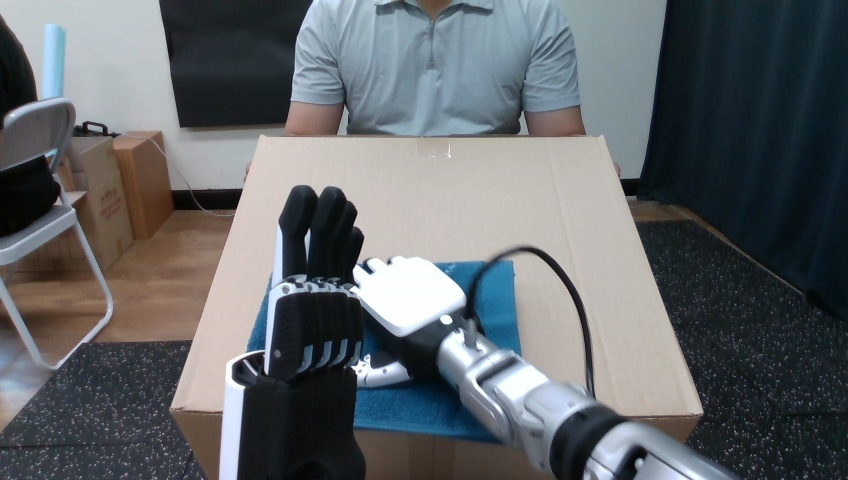left robot hand: (220, 186, 734, 479), (473, 252, 587, 389)
